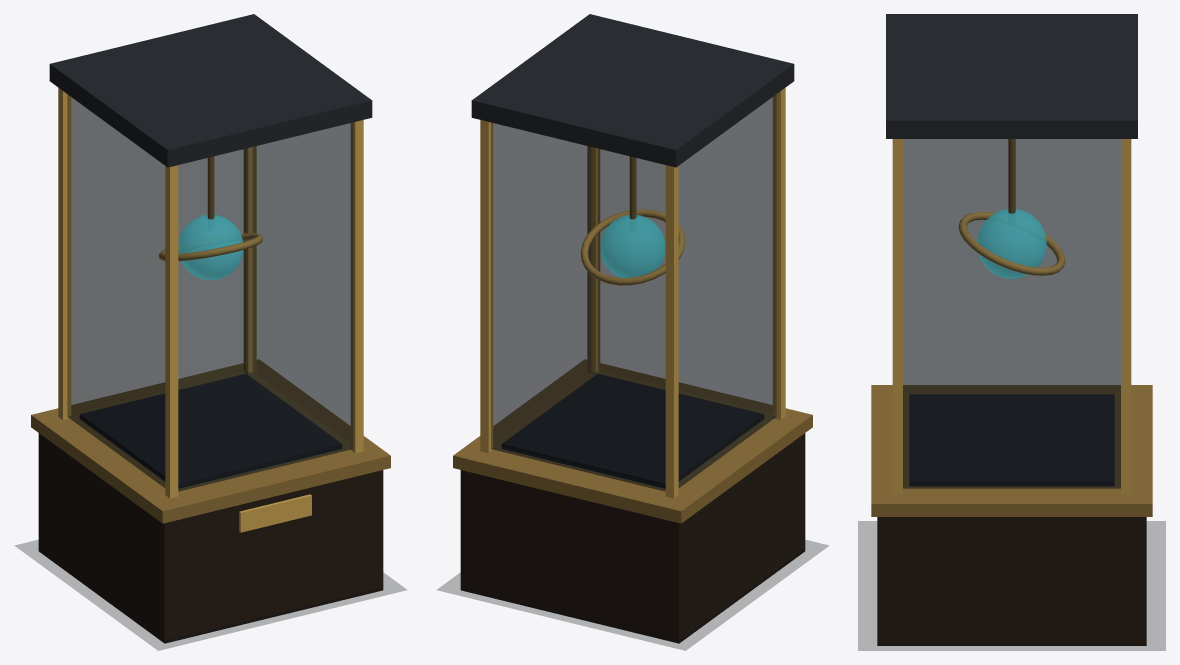
The model's file is hp_room_desire_tall_vitrine.glb.
3 views of the same model, side by side, from view 1: azimuth 30°, elevation 25°; view 2: azimuth 150°, elevation 25°; view 3: azimuth 270°, elevation 25° (orthographic). The views are drawn at different scales.
Parts seen in each view (by area): view 1: glass_shell, base, cap, base_trim, base_plate, rib_-1_1, rib_1_1, rib_-1_-1, contact_shadow, specimen_core, rib_1_-1, label_plate (+1 smaller); view 2: glass_shell, base, cap, base_trim, base_plate, rib_-1_-1, rib_1_-1, rib_-1_1, contact_shadow, specimen_core, rib_1_1, specimen_ring; view 3: glass_shell, base, cap, base_plate, base_trim, contact_shadow, rib_1_-1, rib_1_1, specimen_core, specimen_ring, armature.
Boxes of the visible parts, bbox=[...] form: glass_shell: bbox=[67, 94, 352, 491]; base: bbox=[38, 433, 383, 643]; cap: bbox=[49, 14, 372, 167]; base_trim: bbox=[31, 359, 390, 523]; base_plate: bbox=[79, 374, 342, 488]; rib_-1_1: bbox=[165, 165, 178, 498]; rib_1_1: bbox=[350, 120, 363, 453]; rib_-1_-1: bbox=[58, 88, 71, 419]; contact_shadow: bbox=[15, 540, 406, 650]; specimen_core: bbox=[178, 215, 243, 280]; rib_1_-1: bbox=[244, 146, 256, 374]; label_plate: bbox=[239, 494, 311, 532]; glass_shell: bbox=[491, 94, 776, 491]; base: bbox=[460, 433, 805, 643]; cap: bbox=[471, 14, 794, 167]; base_trim: bbox=[453, 359, 812, 523]; base_plate: bbox=[501, 374, 764, 488]; rib_-1_-1: bbox=[665, 165, 678, 498]; rib_1_-1: bbox=[480, 120, 493, 453]; rib_-1_1: bbox=[772, 88, 785, 419]; contact_shadow: bbox=[437, 540, 828, 650]; specimen_core: bbox=[600, 215, 665, 277]; rib_1_1: bbox=[587, 146, 599, 374]; specimen_ring: bbox=[580, 209, 685, 285]; glass_shell: bbox=[903, 139, 1120, 488]; base: bbox=[877, 517, 1146, 645]; cap: bbox=[886, 14, 1137, 138]; base_plate: bbox=[909, 394, 1114, 485]; base_trim: bbox=[871, 385, 1152, 516]; contact_shadow: bbox=[858, 521, 1165, 650]; rib_1_-1: bbox=[1121, 139, 1131, 493]; rib_1_1: bbox=[892, 139, 902, 493]; specimen_core: bbox=[977, 209, 1046, 278]; specimen_ring: bbox=[958, 212, 1065, 275]; armature: bbox=[1008, 139, 1015, 213].
Bounding box in the file's own units: 1.05 × 1.97 × 1.05.
